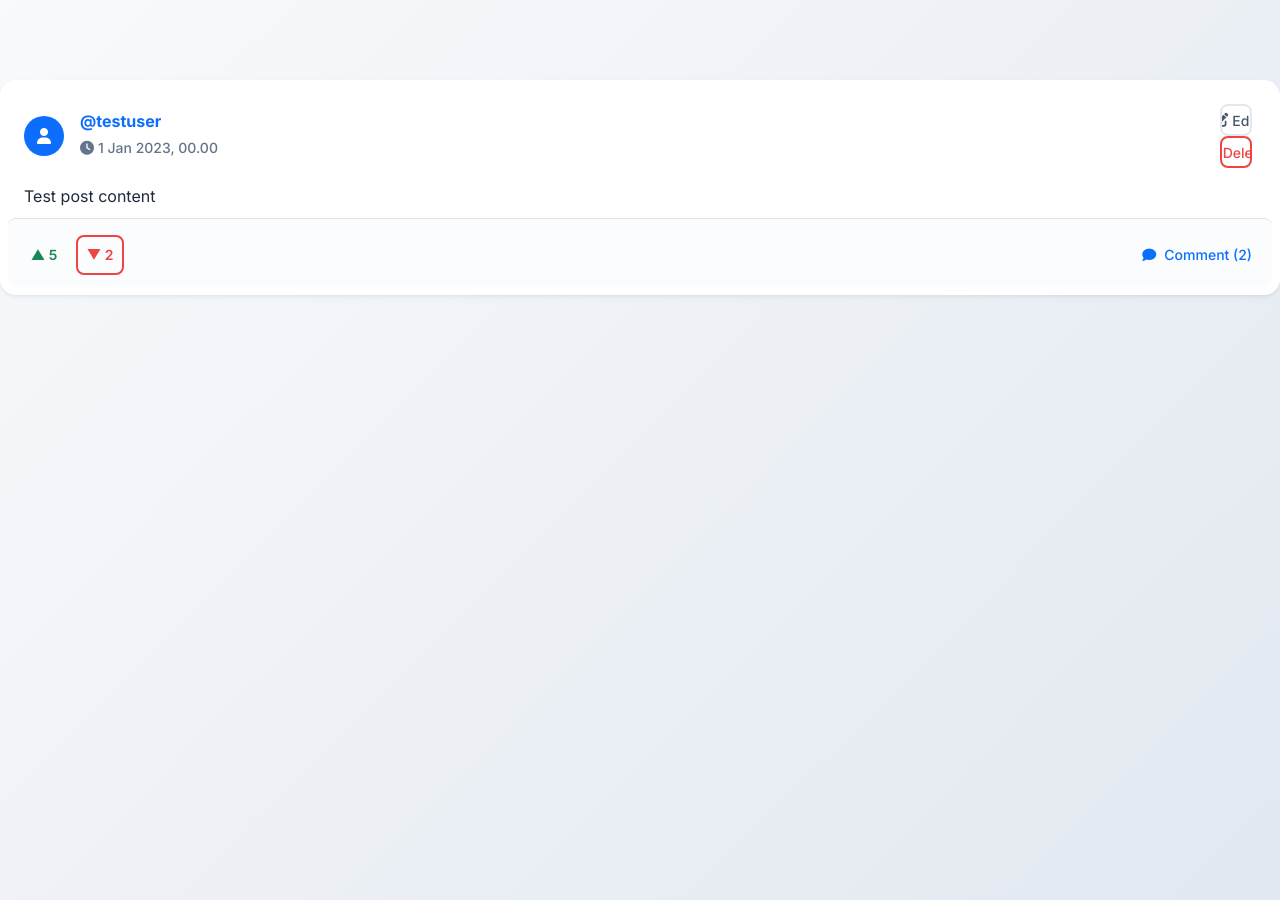
Test: PostItem Component › opens delete confirmation modal
The image size is (1280, 900).
Click the button "Delete".
click(1236, 152)  # box 1220,136 -> 1252,168
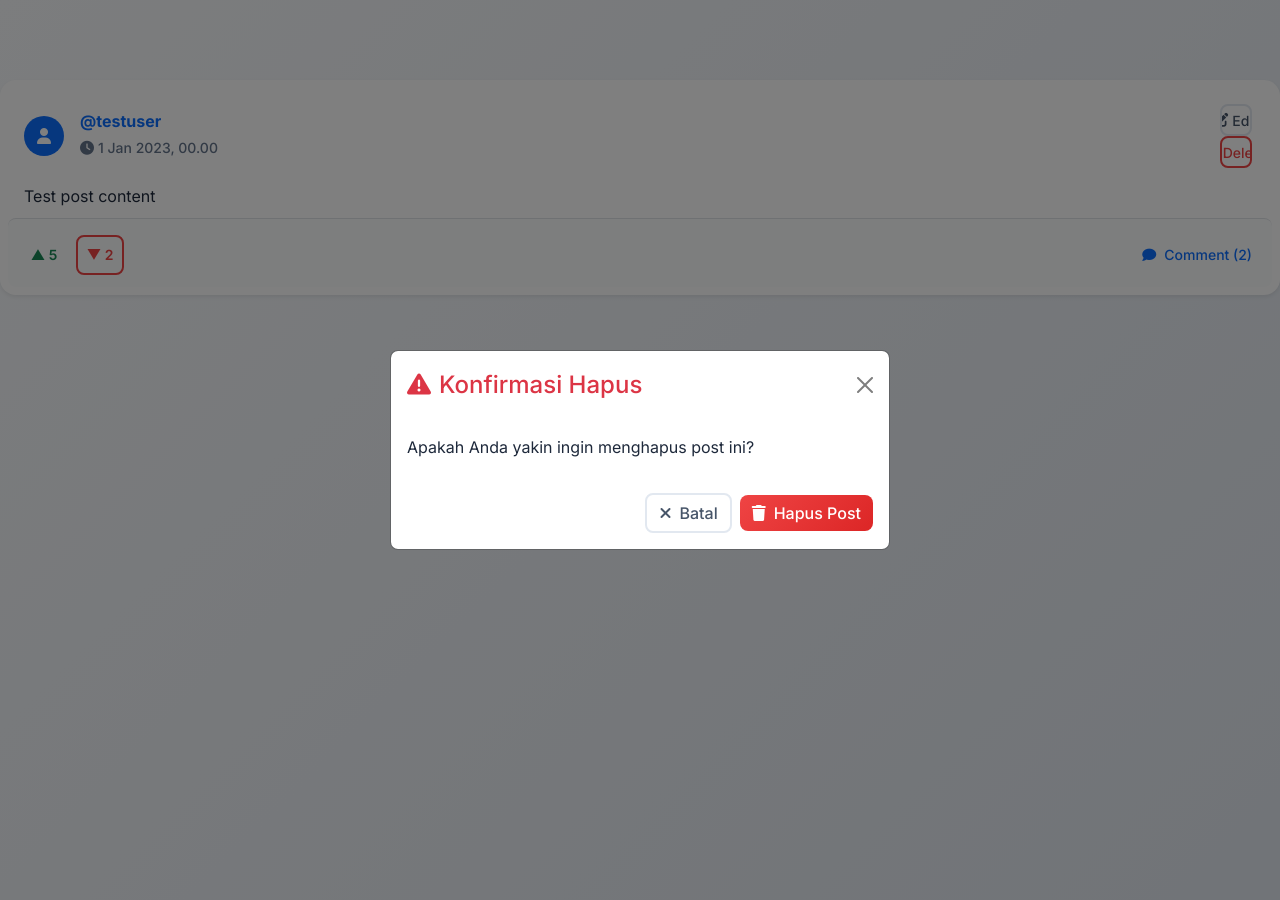
Result: the button "Hapus Post" is shown at 740,495 -> 873,531
Result: the text "Apakah Anda yakin ingin menghapus post ini?" is shown at 407,437 -> 754,457
